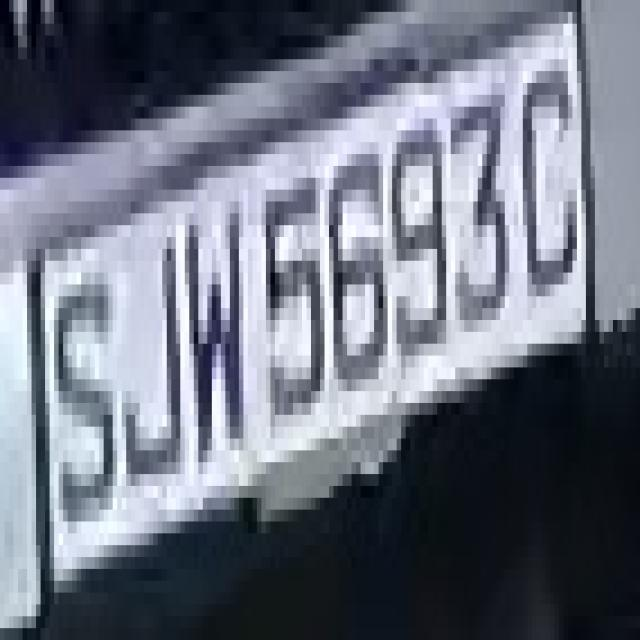3: (432, 71, 514, 368)
5: (243, 142, 329, 439)
6: (306, 106, 316, 118)
9: (378, 59, 451, 403)
C: (518, 12, 582, 355)
J: (104, 214, 198, 522)
S: (45, 201, 117, 569)
W: (171, 130, 257, 462)
